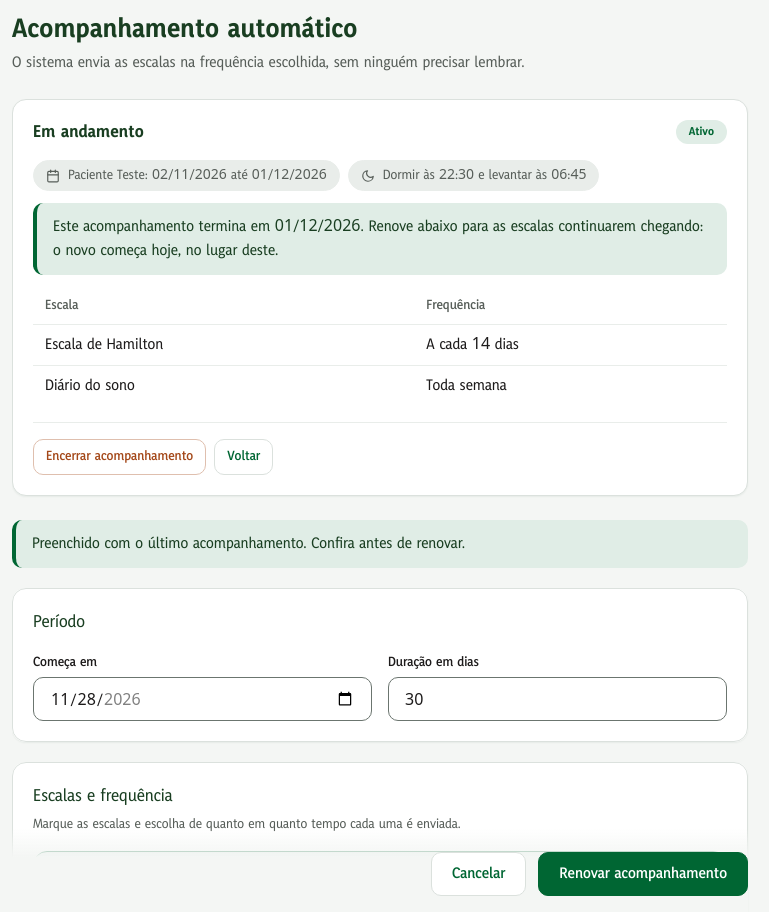
Test case: AcompanhamentoProtocolo › acompanhamento q termina nos proximos 7 dias mostra a renovacao ja preenchida
Expected: the text "Ativo" is shown, [676,120,727,144]
Expected: the dropdown named "Frequência de Escala de Hamilton" shows "A cada 14 dias", [555,874,710,910]
What coordinates should you click on to do the following:
click the button "Renovar acompanhamento"
I would click on:
 (643, 874)
Its box is [538,852,748,896].
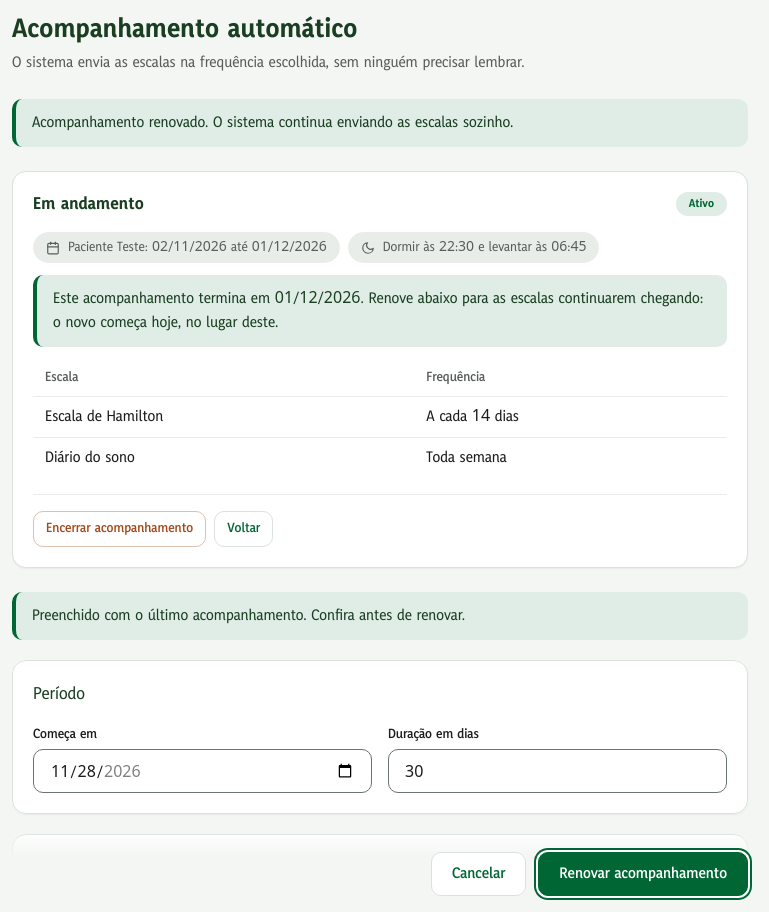
Expected: the text "Acompanhamento renovado. O sistema continua enviando as escalas sozinho." is shown, [12,99,748,147]
